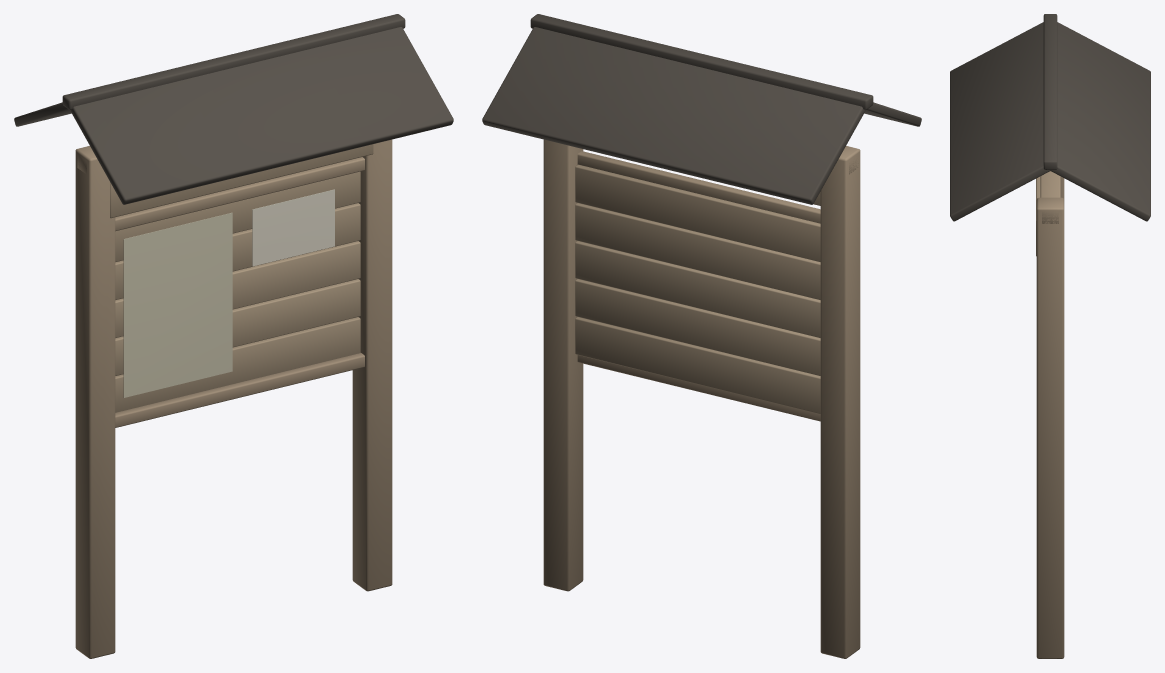
File: info_kiosk.glb
3 renders of one model, left to right at view 1: azimuth 30°, elevation 25°; view 2: azimuth 150°, elevation 25°; view 3: azimuth 270°, elevation 25°, orthographic. The views are drawn at different scales.
Visible parts, largest first — view 1: g_post, g_kiosk_roof, g_plank, g_map, g_paper; view 2: g_plank, g_kiosk_roof, g_post; view 3: g_kiosk_roof, g_post.
Boxes of the visible parts, x1=… form: g_post: x1=75, y1=139, x2=392, y2=658; g_kiosk_roof: x1=14, y1=14, x2=453, y2=204; g_plank: x1=110, y1=144, x2=373, y2=412; g_map: x1=123, y1=212, x2=232, y2=397; g_paper: x1=252, y1=189, x2=334, y2=266; g_plank: x1=575, y1=164, x2=820, y2=413; g_kiosk_roof: x1=482, y1=14, x2=921, y2=204; g_post: x1=543, y1=139, x2=860, y2=658; g_kiosk_roof: x1=950, y1=14, x2=1150, y2=221; g_post: x1=1036, y1=171, x2=1064, y2=658.
Bounding box in the file's own units: 2.04 × 3.25 × 1.17.
